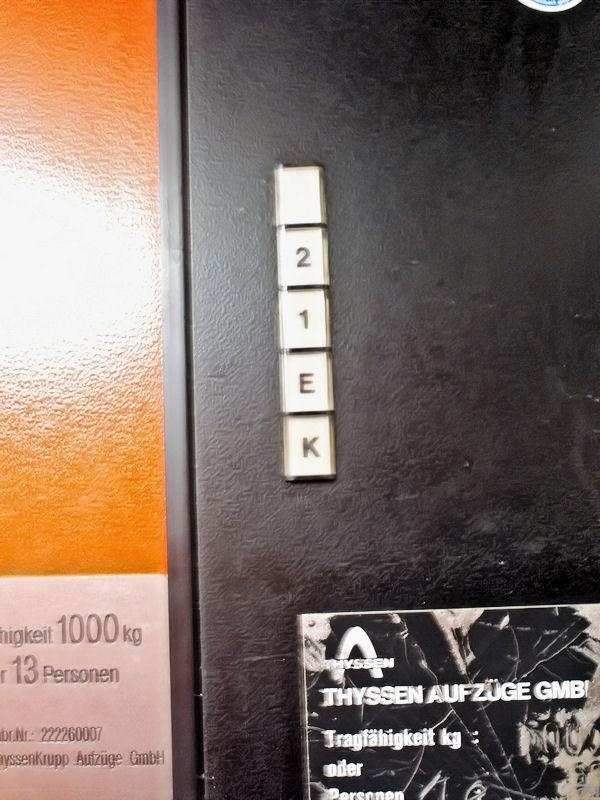1: (278, 285, 333, 352)
2: (276, 223, 331, 289)
E: (279, 347, 336, 415)
K: (283, 411, 337, 483)
empty: (274, 161, 328, 228)
